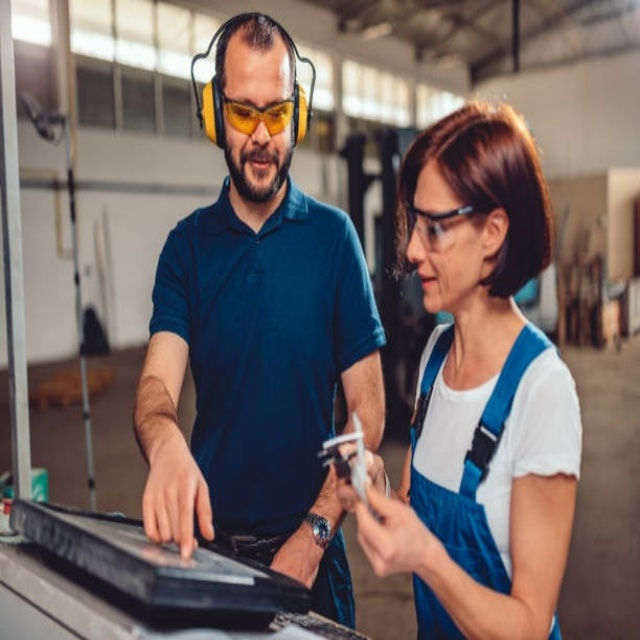Gafas: (404, 200, 485, 250), (217, 90, 300, 138)
Sin_guantes: (141, 433, 218, 563), (350, 485, 427, 582)
Sin_mascara: (239, 149, 278, 198), (414, 265, 443, 311)
